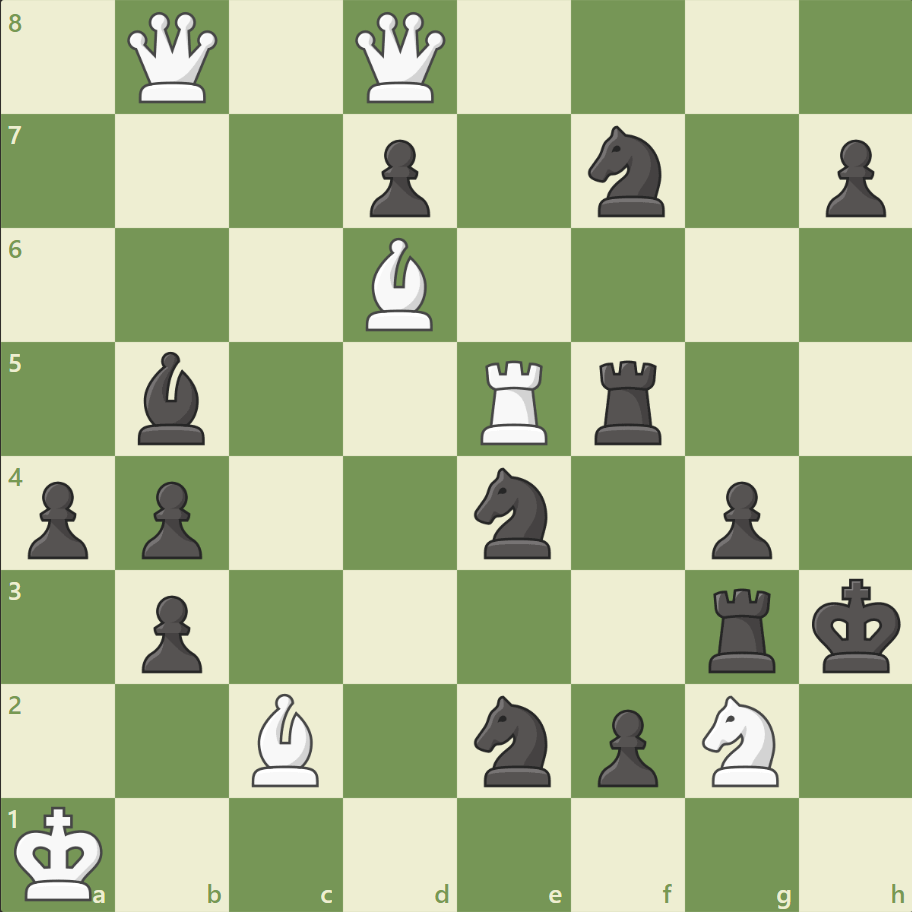B: (358, 233, 442, 336), (244, 687, 328, 790)
K: (11, 798, 111, 906)
N: (692, 688, 789, 791)
Q: (124, 9, 223, 108), (351, 9, 450, 108)
R: (473, 352, 556, 449)
b: (131, 347, 215, 449)
k: (806, 571, 906, 679)
n: (465, 461, 562, 564), (465, 688, 562, 791), (579, 121, 676, 223)
p: (20, 473, 95, 564), (133, 473, 208, 564), (701, 473, 776, 564), (133, 586, 208, 677), (361, 132, 435, 223), (815, 132, 889, 223), (588, 700, 662, 791)
r: (587, 352, 670, 449), (700, 579, 783, 676)
